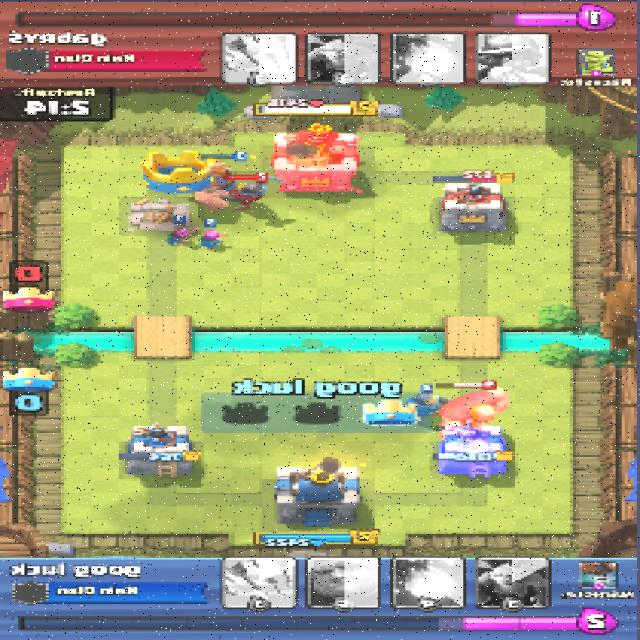Enemy-Giant: (438, 387, 514, 438)
Enemy-Knight: (221, 177, 277, 210)
Player-Archer: (166, 225, 192, 248), (195, 229, 224, 248)
Player-Knight: (402, 389, 446, 422)
